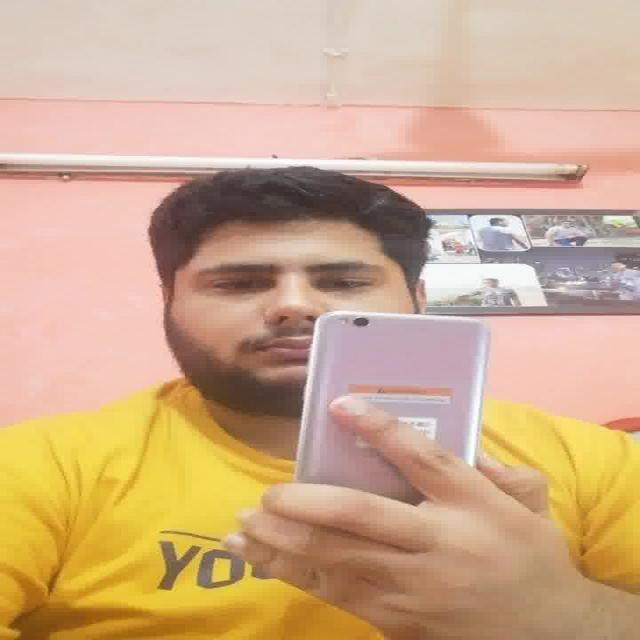Phone: (297, 308, 492, 508)
